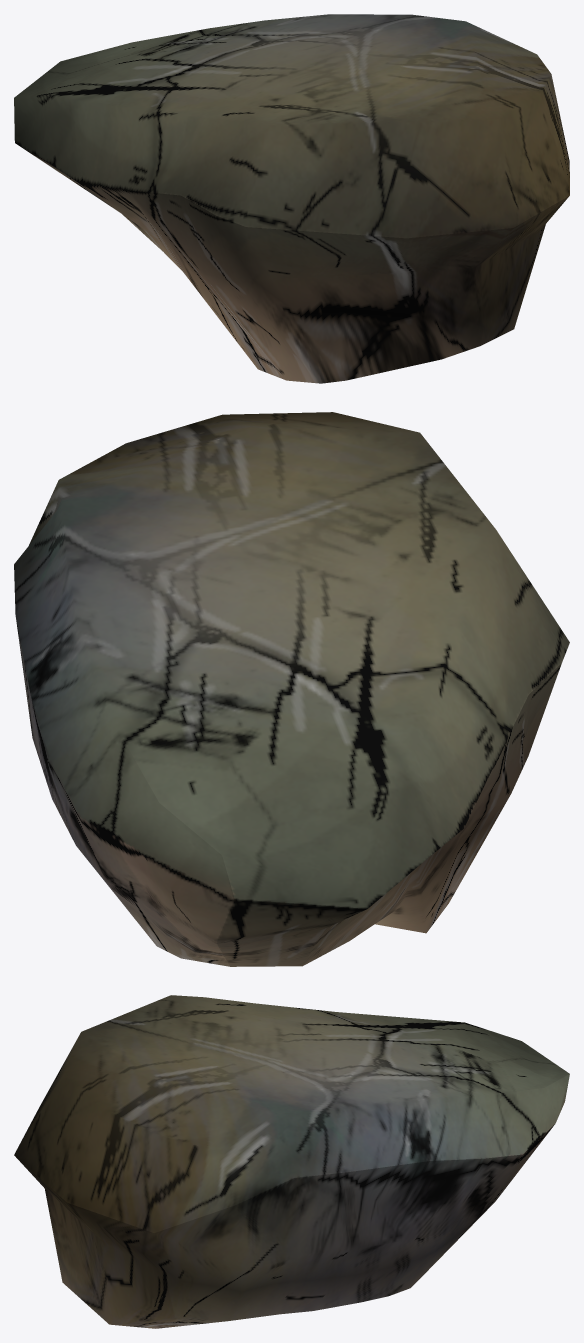
File: Rock_01C.fbx
3 renders of one model, top to bottom at view 1: azimuth 30°, elevation 25°; view 2: azimuth 150°, elevation 25°; view 3: azimuth 270°, elevation 25°, orthographic. The views are drawn at different scales.
Visible parts, largest first — view 1: Rock03:Mesh; view 2: Rock03:Mesh; view 3: Rock03:Mesh.
Part boxes in pixels (x1,y1,x2,y2): Rock03:Mesh: (14,14,569,383); Rock03:Mesh: (14,412,569,966); Rock03:Mesh: (14,995,569,1328).
Size of the model in its own units: 7.4 by 5.11 by 9.21.
